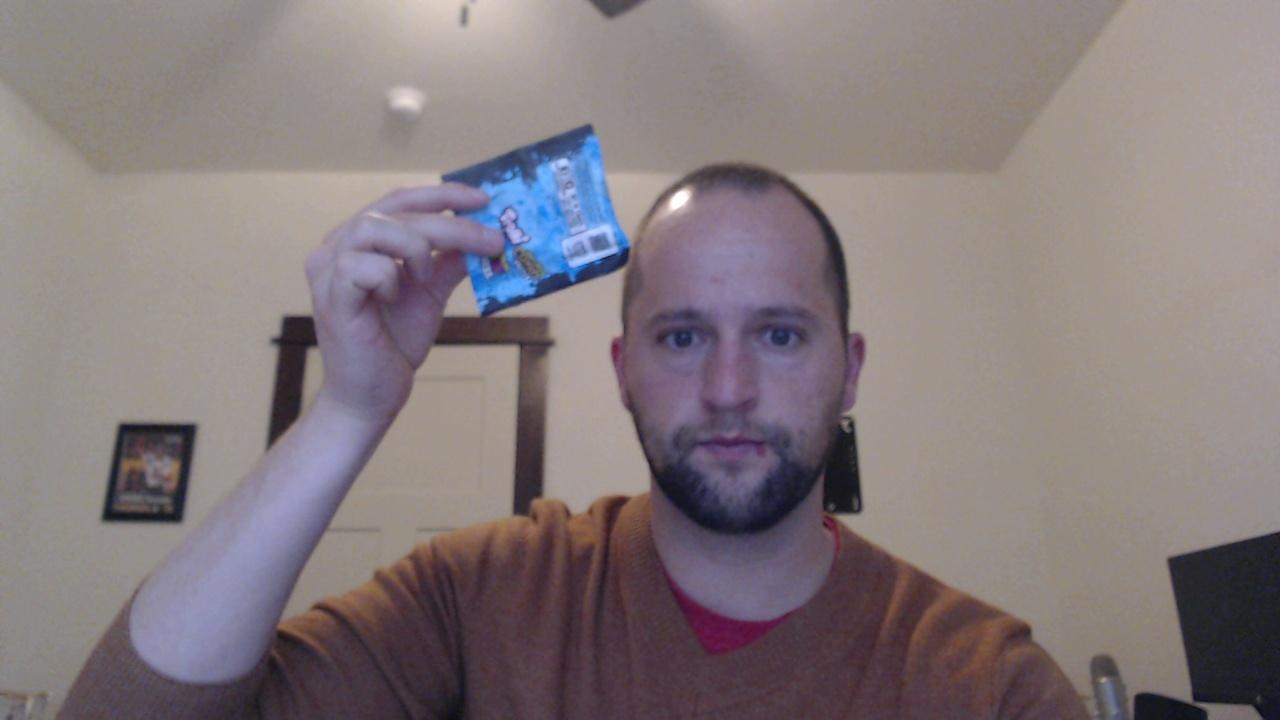Trolli: (437, 125, 633, 318)
